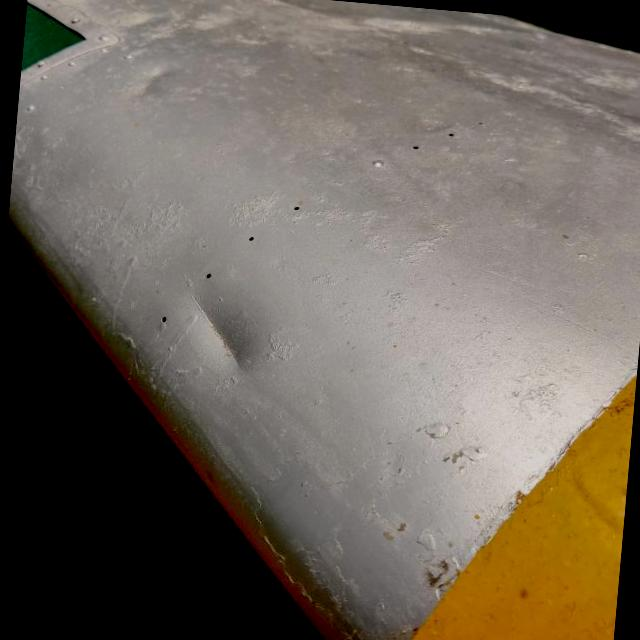dent: (166, 271, 284, 388)
